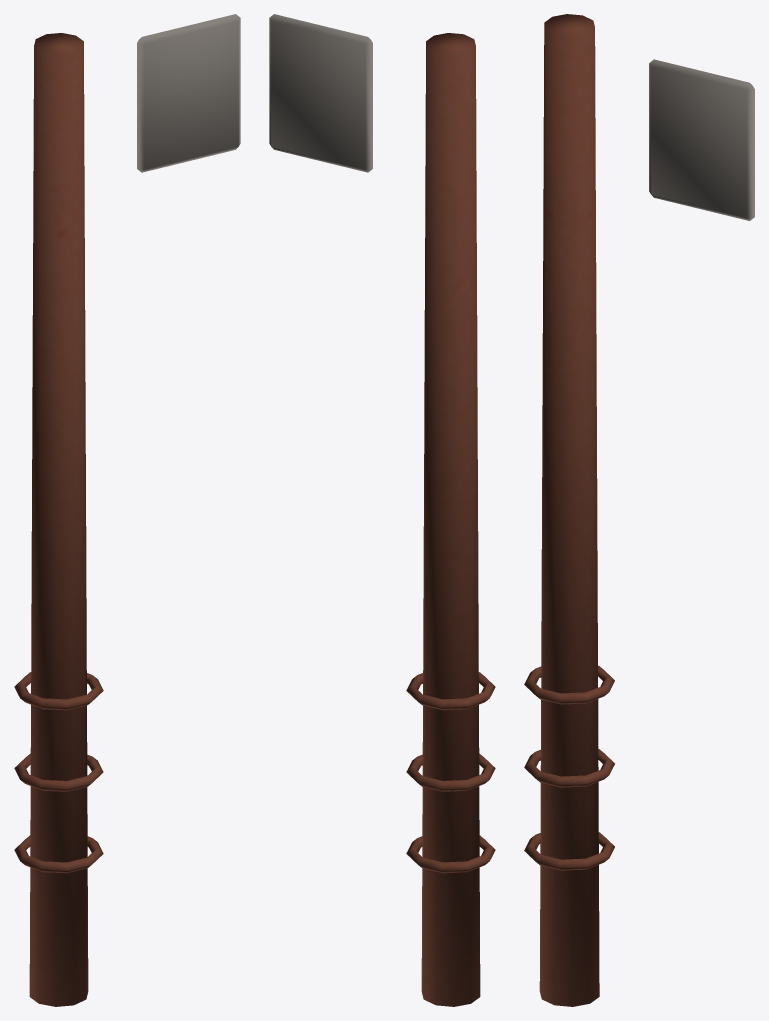
The model's file is hand_axe.fbx.
The picture shows the model from 3 angles, left to right: view 1: azimuth 30°, elevation 25°; view 2: azimuth 150°, elevation 25°; view 3: azimuth 330°, elevation 25°; orthographic projection.
Parts seen in each view (by area): view 1: hand_axe; view 2: hand_axe; view 3: hand_axe.
Boxes of the visible parts, <box> form: hand_axe: <box>14,14,240,1006</box>; hand_axe: <box>269,14,495,1006</box>; hand_axe: <box>524,14,754,1006</box>.
Size of the model in its own units: 0.085 by 0.35 by 0.0285.
2 materials, 1 textured.
